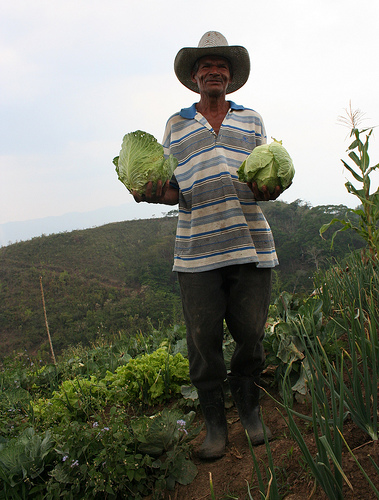cabbage: (233, 143, 297, 201), (116, 132, 173, 196)
